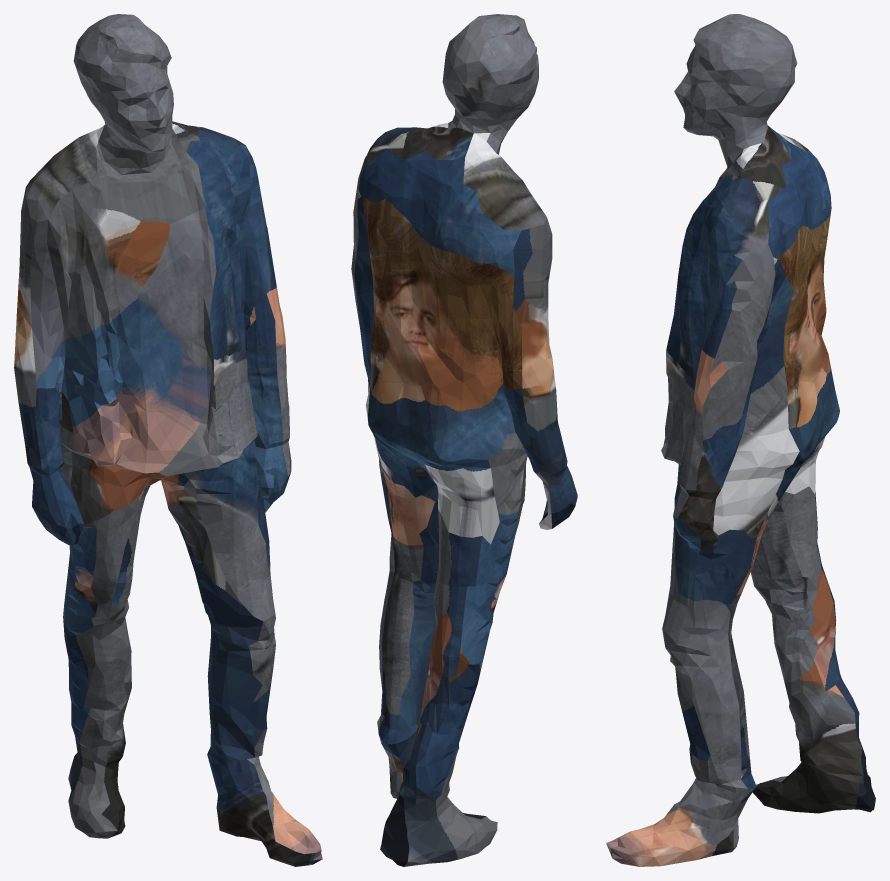
File: man_10.glb
3 renders of one model, left to right at view 1: azimuth 30°, elevation 25°; view 2: azimuth 150°, elevation 25°; view 3: azimuth 270°, elevation 25°, orthographic. The views are drawn at different scales.
Visible parts, largest first — view 1: man_10; view 2: man_10; view 3: man_10.
Boxes of the visible parts, left/top/right/bottom form: man_10: left=14, top=14, right=322, bottom=866; man_10: left=351, top=14, right=577, bottom=866; man_10: left=606, top=14, right=875, bottom=866.
Size of the model in its own units: 0.4906 by 1.71 by 0.5338.
1 material, 1 textured.
